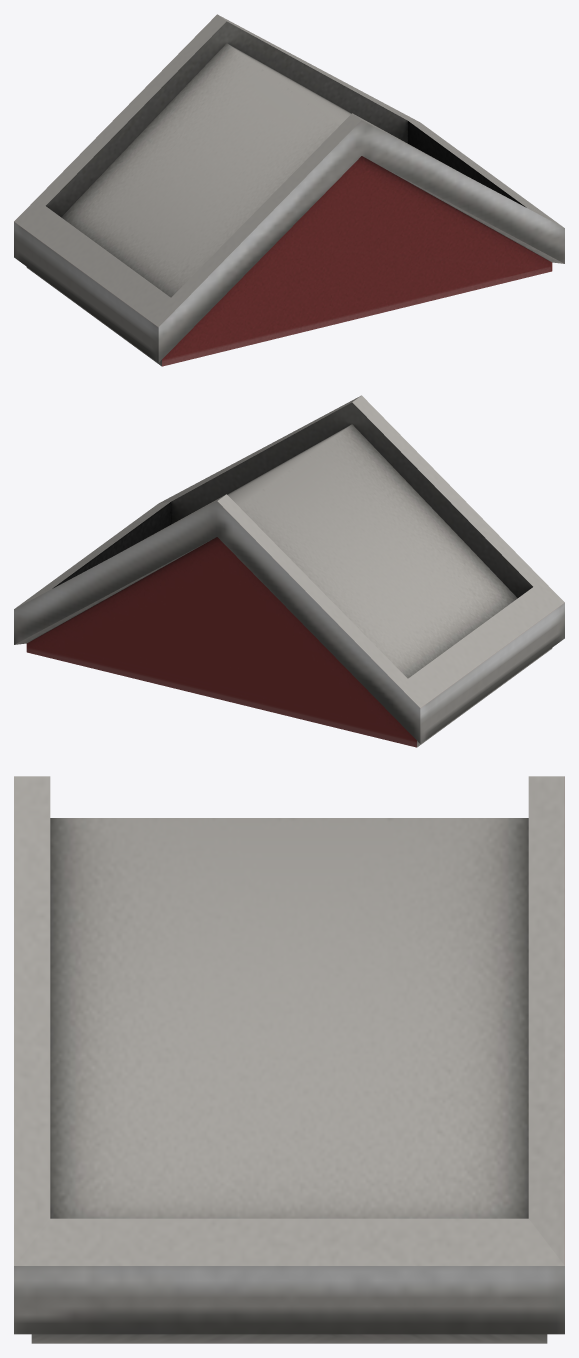
Rendered from House_Roof.FBX.
3 renders of one model, top to bottom at view 1: azimuth 30°, elevation 25°; view 2: azimuth 150°, elevation 25°; view 3: azimuth 270°, elevation 25°, orthographic. The views are drawn at different scales.
Visible parts, largest first — view 1: Base005; view 2: Base005; view 3: Base005.
Part boxes in pixels (box(x1,y1,x2,y2)): Base005: box(14, 14, 564, 366); Base005: box(14, 395, 564, 747); Base005: box(14, 776, 564, 1343).
Size of the model in its own units: 521 by 248 by 321.
